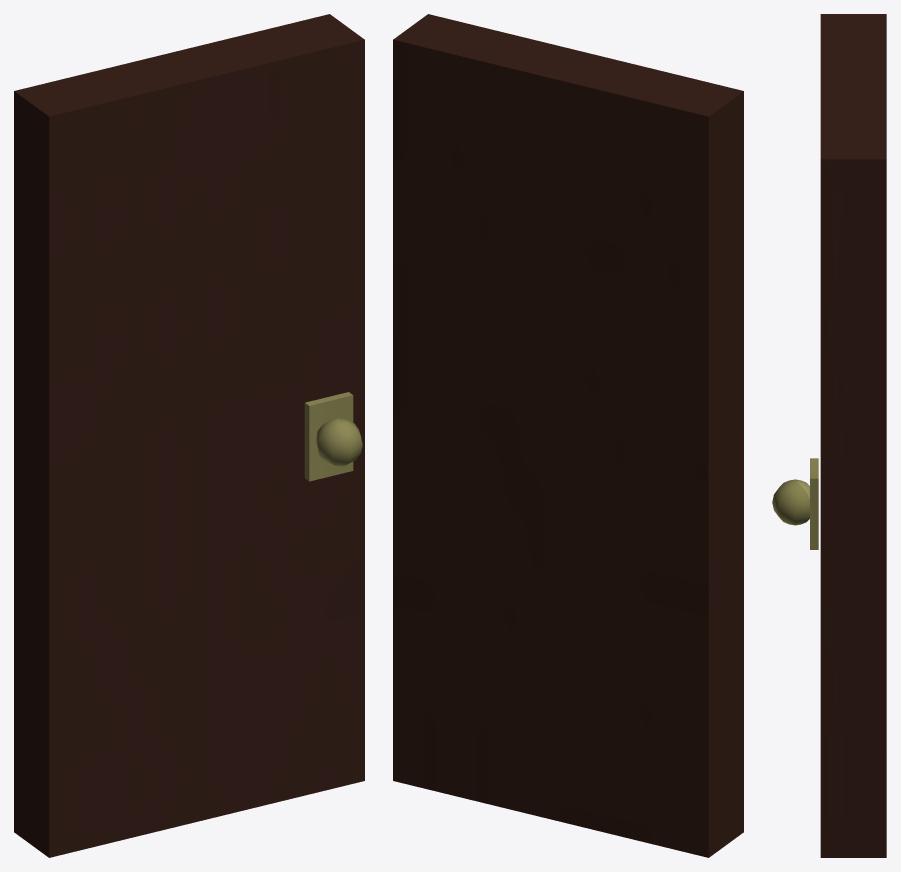
Rendered from porta_esquerda.fbx.
The picture shows the model from 3 angles, left to right: view 1: azimuth 30°, elevation 25°; view 2: azimuth 150°, elevation 25°; view 3: azimuth 270°, elevation 25°; orthographic projection. The views are drawn at different scales.
Parts seen in each view (by area): view 1: pCube107; view 2: pCube107; view 3: pCube107.
Part boxes in pixels (x1=…): pCube107: x1=14, y1=14, x2=364, y2=857; pCube107: x1=393, y1=14, x2=743, y2=857; pCube107: x1=772, y1=14, x2=886, y2=857.
Size of the model in its own units: 0.9691 by 2.17 by 0.3232.
